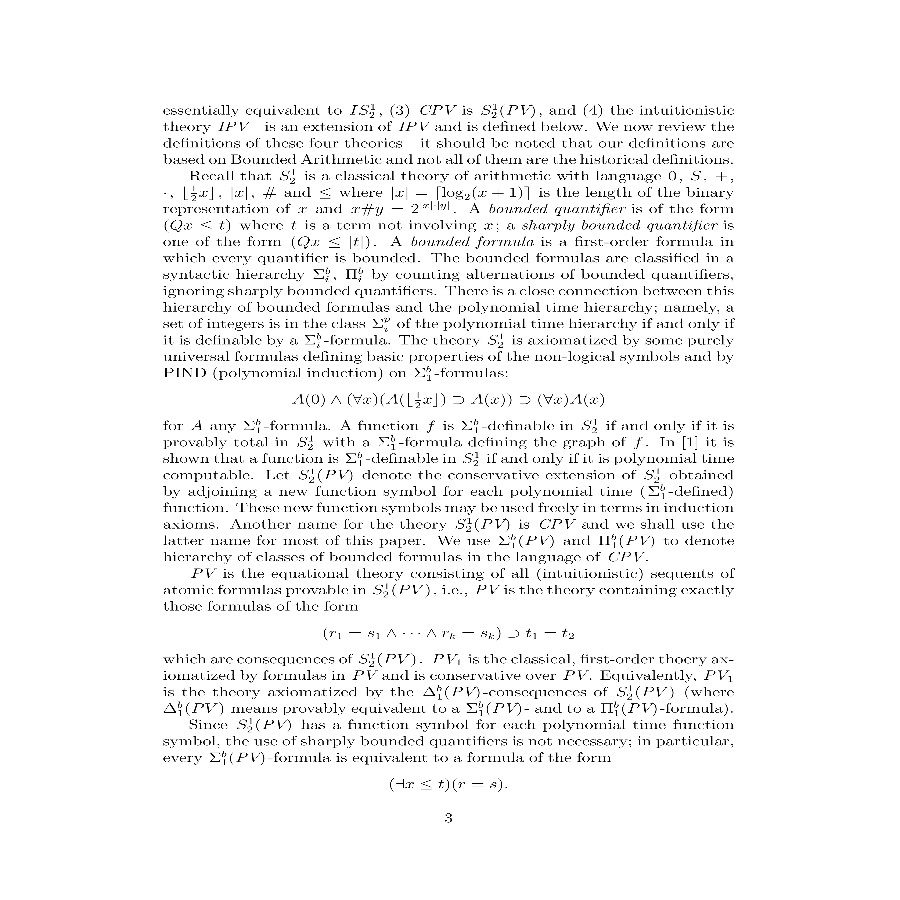eq: (287, 388, 610, 413), (318, 622, 578, 646), (385, 772, 505, 795)
